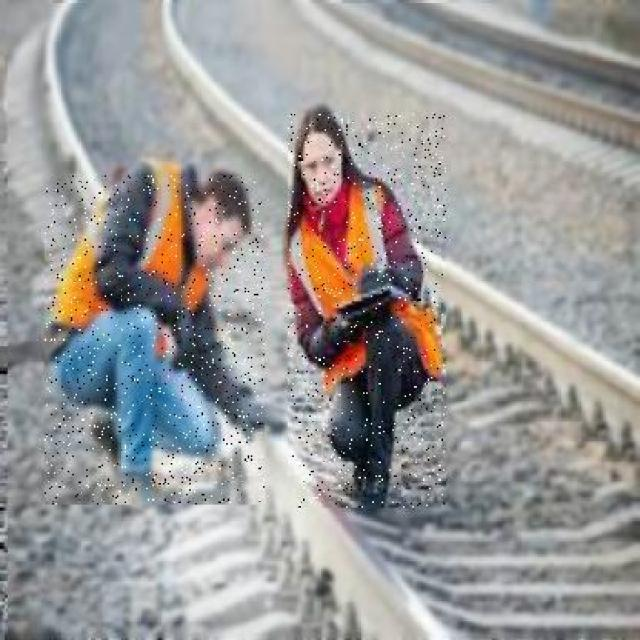rail: (9, 5, 640, 638), (315, 1, 640, 171)
